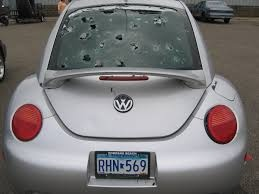Broken-glass: (58, 7, 195, 76)
